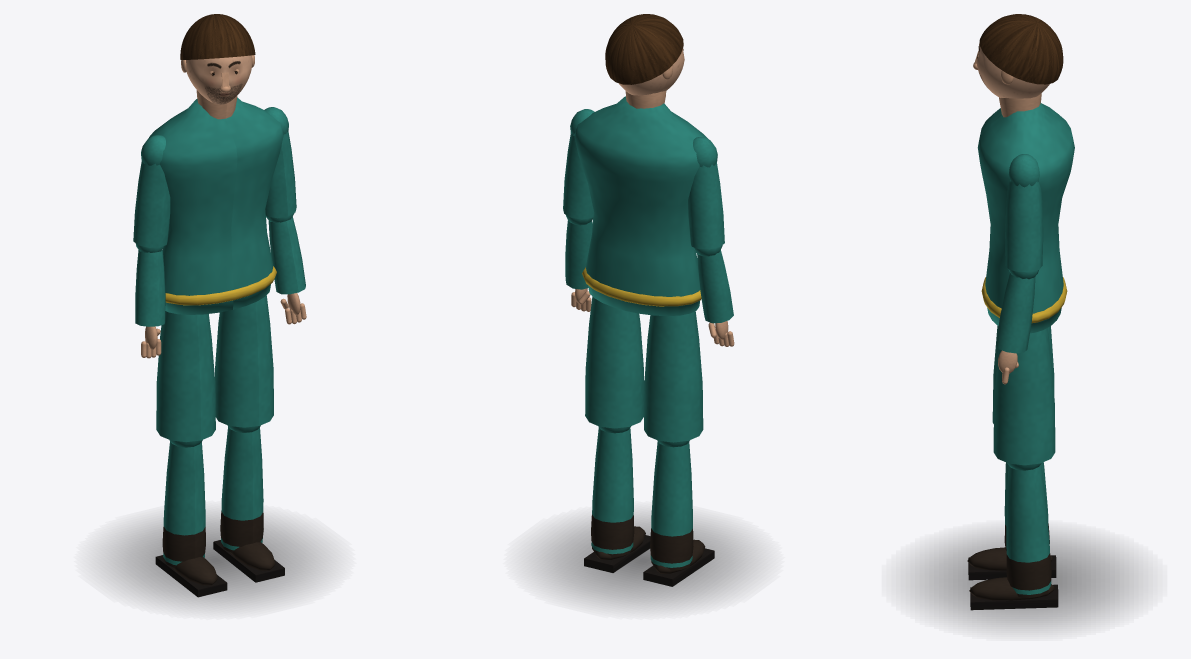
Rendered from npc_resident1.glb.
3 views of the same model, side by side, from view 1: azimuth 30°, elevation 25°; view 2: azimuth 150°, elevation 25°; view 3: azimuth 270°, elevation 25° (orthographic). The views are drawn at different scales.
Visible parts, largest first — view 1: chest, object 11, legL, legR, shinL, shinR, head, armL, foreL, foreR, armR; view 2: chest, object 11, legL, legR, shinL, shinR, head, armL, foreL, foreR, armR; view 3: object 11, chest, shinR, legR, head, armR, foreR, shinL.
Part boxes in pixels (x1,y1,x2,y2): chest: [149, 90, 283, 314]; object 11: [103, 513, 327, 607]; legL: [156, 311, 215, 442]; legR: [215, 295, 273, 427]; shinL: [155, 440, 227, 597]; shinR: [213, 425, 284, 582]; head: [180, 14, 255, 104]; armL: [133, 135, 170, 247]; foreL: [135, 243, 165, 358]; foreR: [266, 213, 306, 324]; armR: [264, 107, 296, 218]; chest: [574, 91, 707, 316]; object 11: [532, 513, 755, 607]; legL: [644, 311, 703, 442]; legR: [585, 296, 644, 428]; shinL: [643, 440, 714, 586]; shinR: [584, 426, 650, 572]; head: [605, 14, 684, 95]; armL: [688, 137, 724, 249]; foreL: [693, 245, 734, 346]; foreR: [565, 215, 593, 311]; armR: [563, 109, 594, 219]; object 11: [910, 532, 1138, 628]; chest: [977, 93, 1074, 333]; shinR: [969, 463, 1058, 610]; legR: [993, 328, 1055, 465]; head: [973, 14, 1063, 98]; armR: [1005, 154, 1043, 271]; foreR: [996, 269, 1038, 384]; shinL: [967, 462, 1056, 580].
Bounding box in the file's own units: 0.868 × 1.8 × 0.868.
6 materials, 5 textured.
